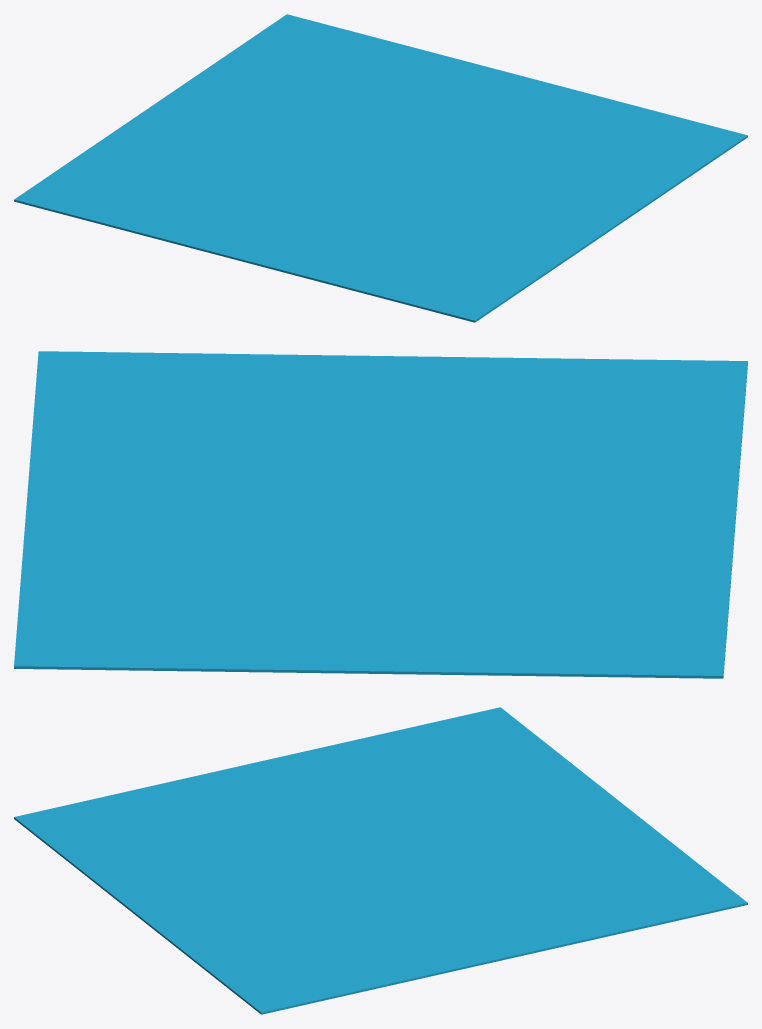
3 views of the same model, one above another, from view 1: azimuth 30°, elevation 25°; view 2: azimuth 150°, elevation 25°; view 3: azimuth 270°, elevation 25° (orthographic). The views are drawn at different scales.
Visible parts, largest first — view 1: Visual_Cube; view 2: Visual_Cube; view 3: Visual_Cube.
Boxes of the visible parts, bbox=[...] form: Visual_Cube: bbox=[14, 14, 747, 322]; Visual_Cube: bbox=[14, 351, 747, 678]; Visual_Cube: bbox=[14, 707, 747, 1014].
Bounding box in the file's own units: 662 × 2.01 × 672.
